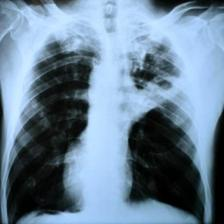tuberculosis: (1, 5, 213, 224)
